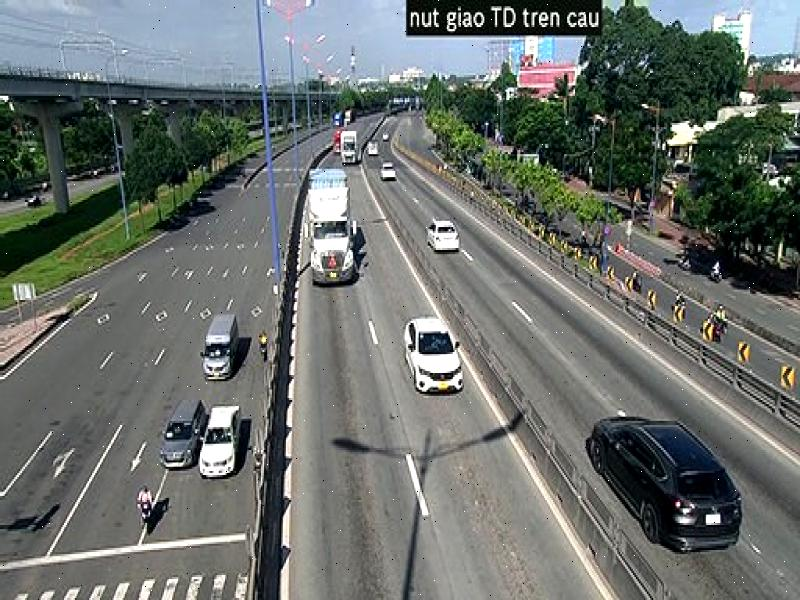truck: (300, 156, 366, 289)
